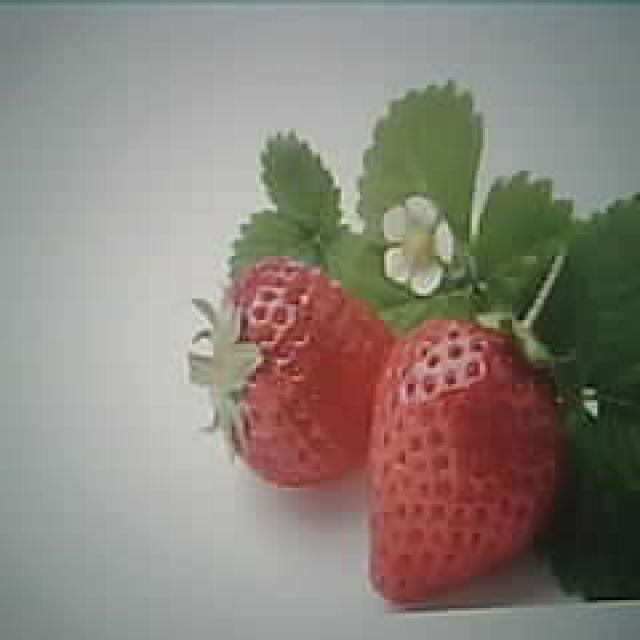strawberry: (368, 318, 568, 602), (221, 259, 385, 485)
